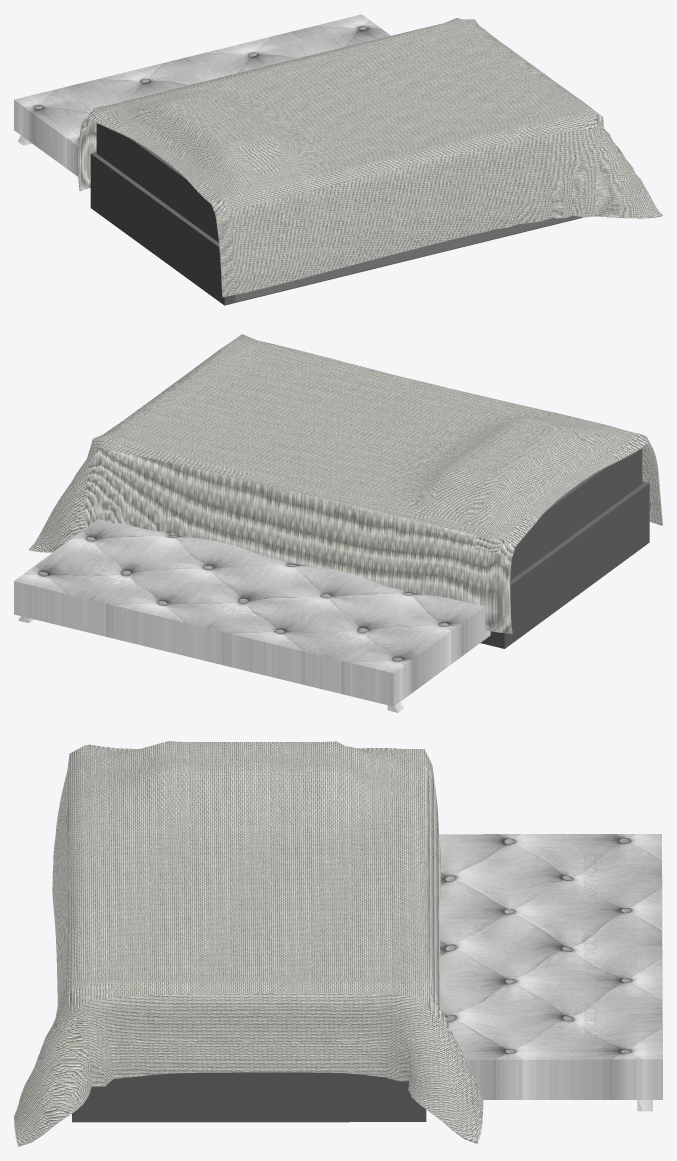
The model's file is cama.glb.
The picture shows the model from 3 angles, top to bottom: view 1: azimuth 30°, elevation 25°; view 2: azimuth 150°, elevation 25°; view 3: azimuth 270°, elevation 25°; orthographic projection. The views are drawn at different scales.
Visible parts, largest first — view 1: BaseCama_standardSurface1_0; view 2: BaseCama_standardSurface1_0; view 3: BaseCama_standardSurface1_0.
Part boxes in pixels (x1,y1,x2,y2): BaseCama_standardSurface1_0: (14,14,662,305); BaseCama_standardSurface1_0: (14,334,662,712); BaseCama_standardSurface1_0: (14,741,662,1146).
Size of the model in its own units: 1.9 by 0.5206 by 1.88.
3 materials, 2 textured.
